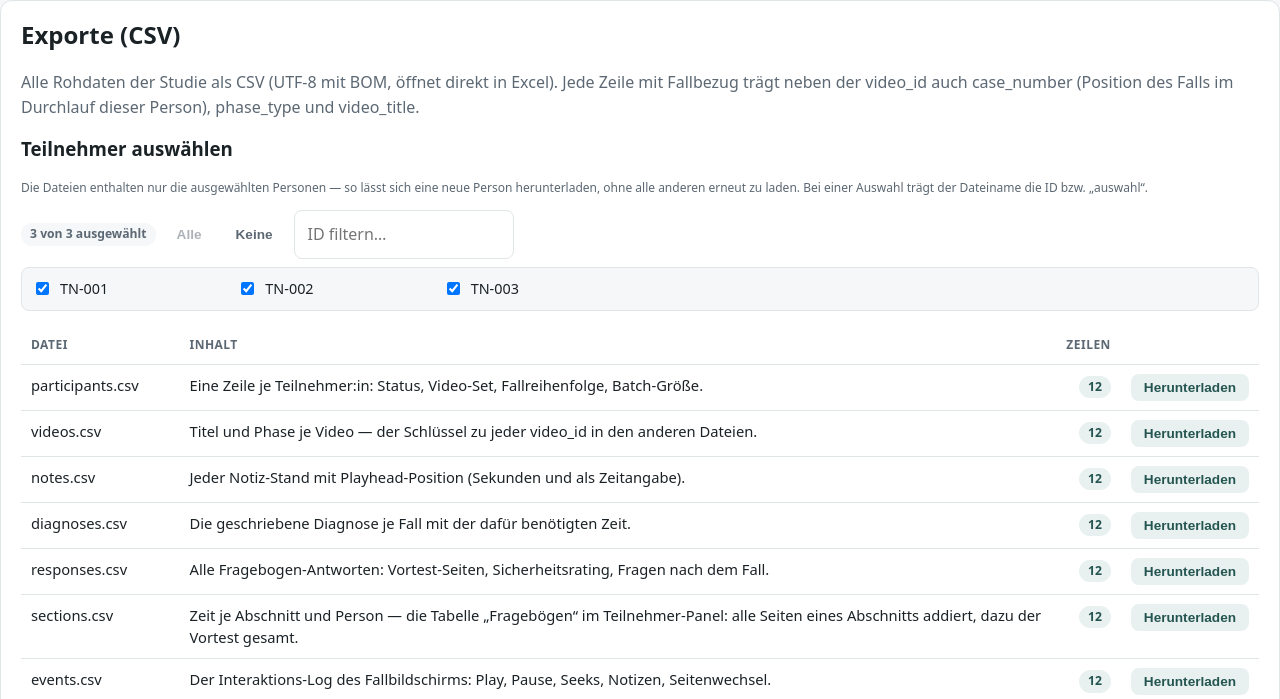
with nobody chosen there is nothing to download
expect the checkbox labelled "TN-001" is checked: met, box [36,282,49,295]
Step 1. Click the button "Keine" → (254, 234), box [222,221,286,248]
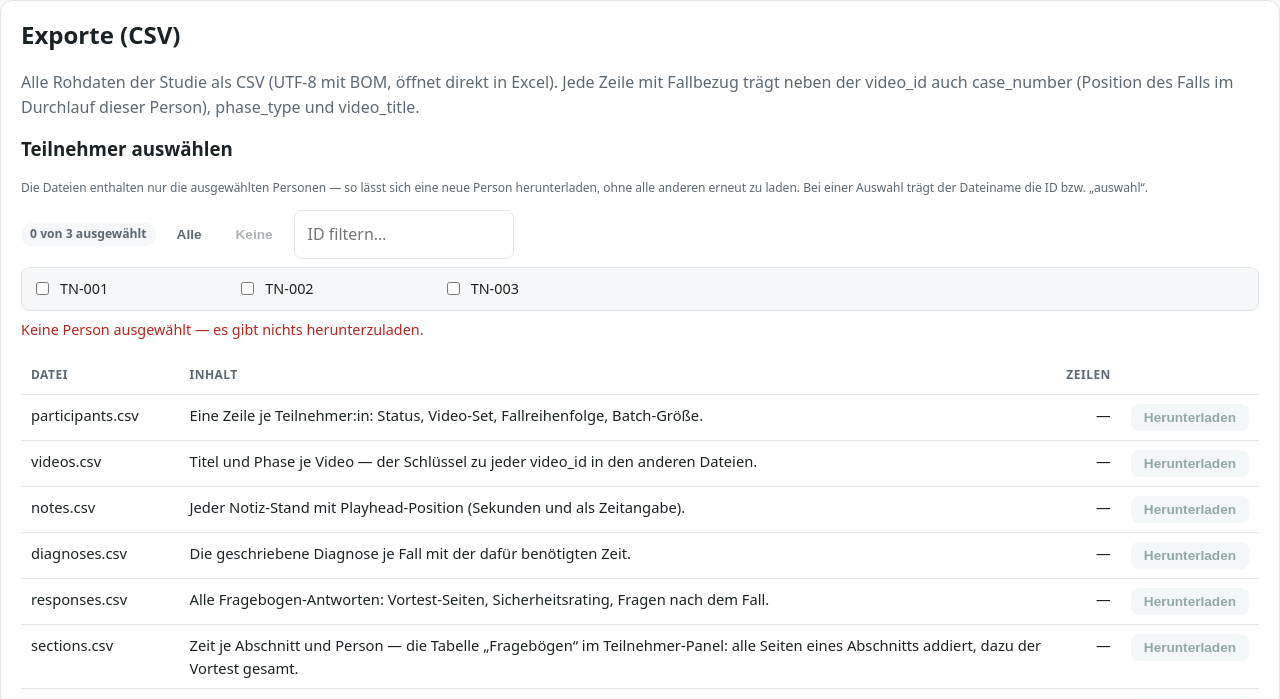
expect the text "Keine Person ausgewählt — es gibt nichts herunterzuladen." is shown: met, box [21,320,424,339]
# "Alle" brings everyone back.
Step 2. Click the button "Alle" → (189, 234), box [164,221,214,248]
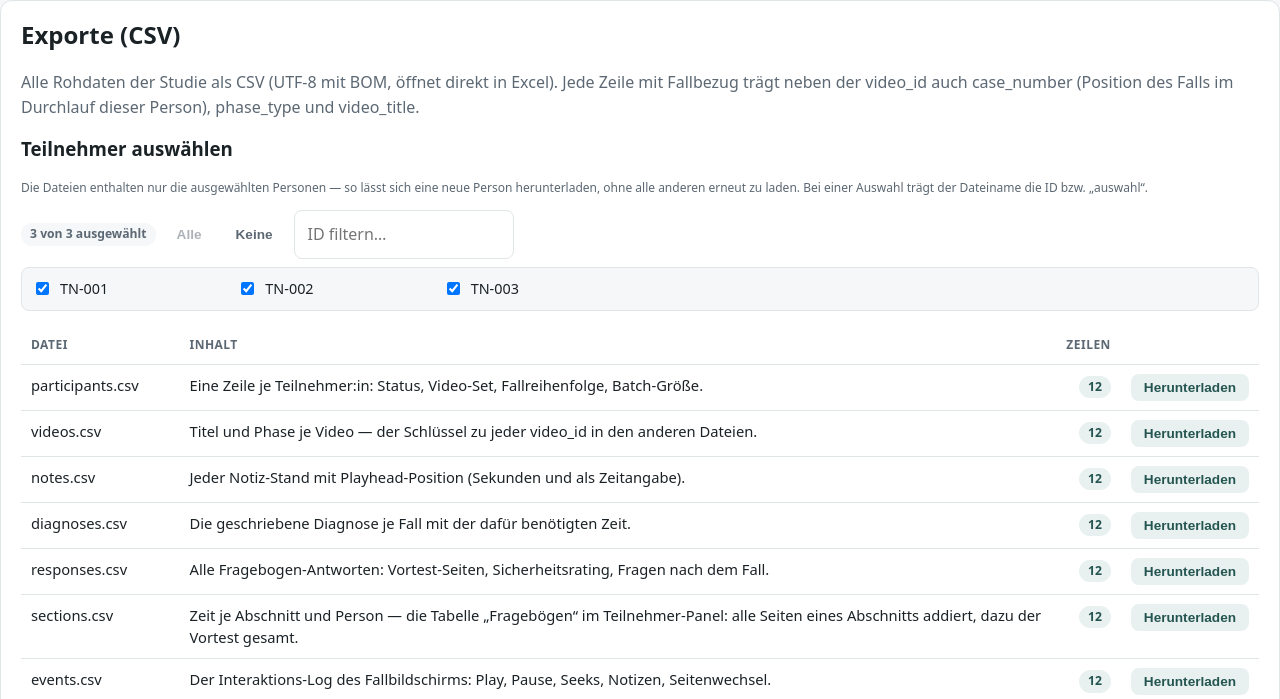
expect the text "3 von 3 ausgewählt" is shown: met, box [21,223,156,246]
